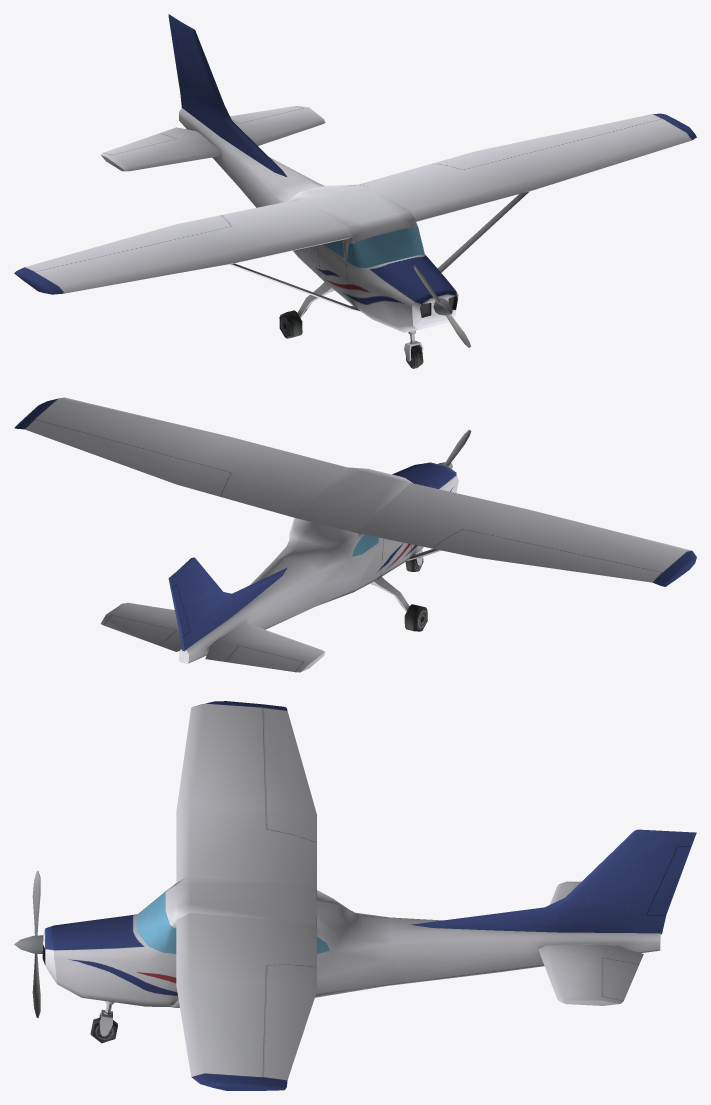
File: airplane.obj
The picture shows the model from 3 angles, top to bottom: view 1: azimuth 30°, elevation 25°; view 2: azimuth 150°, elevation 25°; view 3: azimuth 270°, elevation 25°; orthographic projection. The views are drawn at different scales.
Parts seen in each view (by area): view 1: awionetka Mesh; view 2: awionetka Mesh; view 3: awionetka Mesh.
Part boxes in pixels (x1,y1,x2,y2): awionetka Mesh: (14,14,696,368); awionetka Mesh: (14,397,696,672); awionetka Mesh: (14,701,696,1090).
Bounding box in the file's own units: 130 × 33.63 × 97.93.
1 material, 1 textured.
